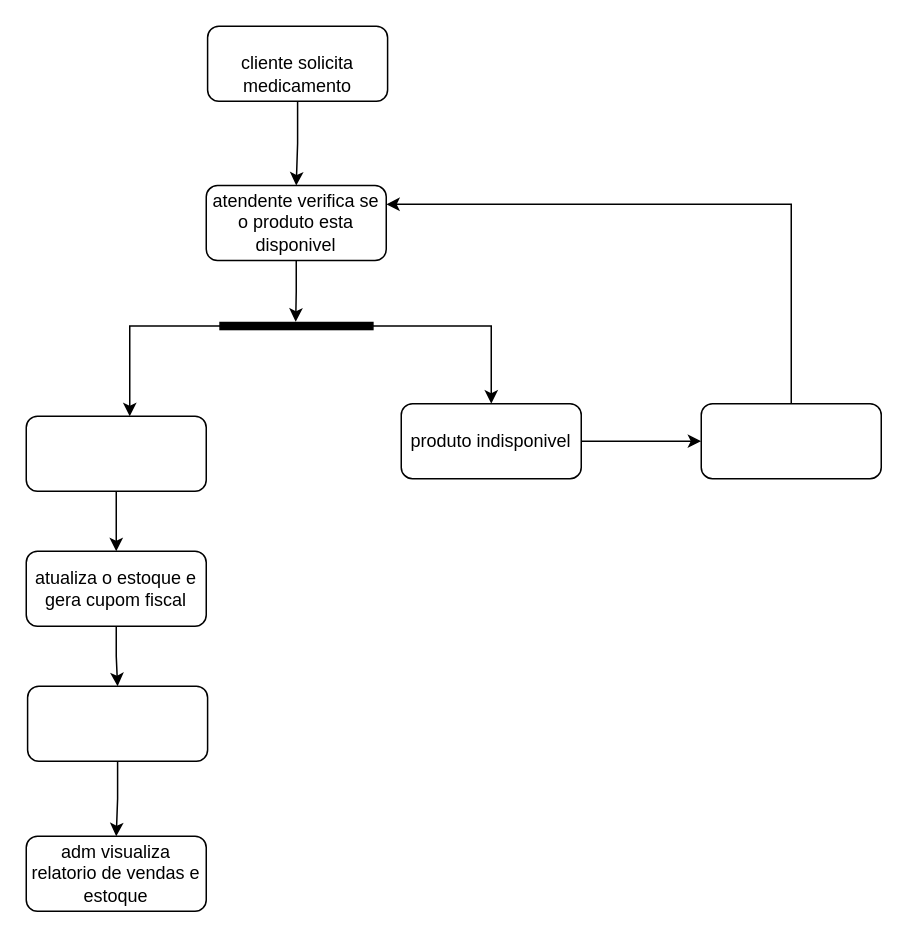
This 908x938 diagram has some shape labels left out. Each missing label, with the centre of its shape:
"cliente realiza o pagamento e recebe seu produto" goes at pixel 117 723.
"cliente solicita um medicamento alternativo" goes at pixel 790 440.
"registra a venda, vinculando ao cpf do cliente" goes at pixel 115 453.
